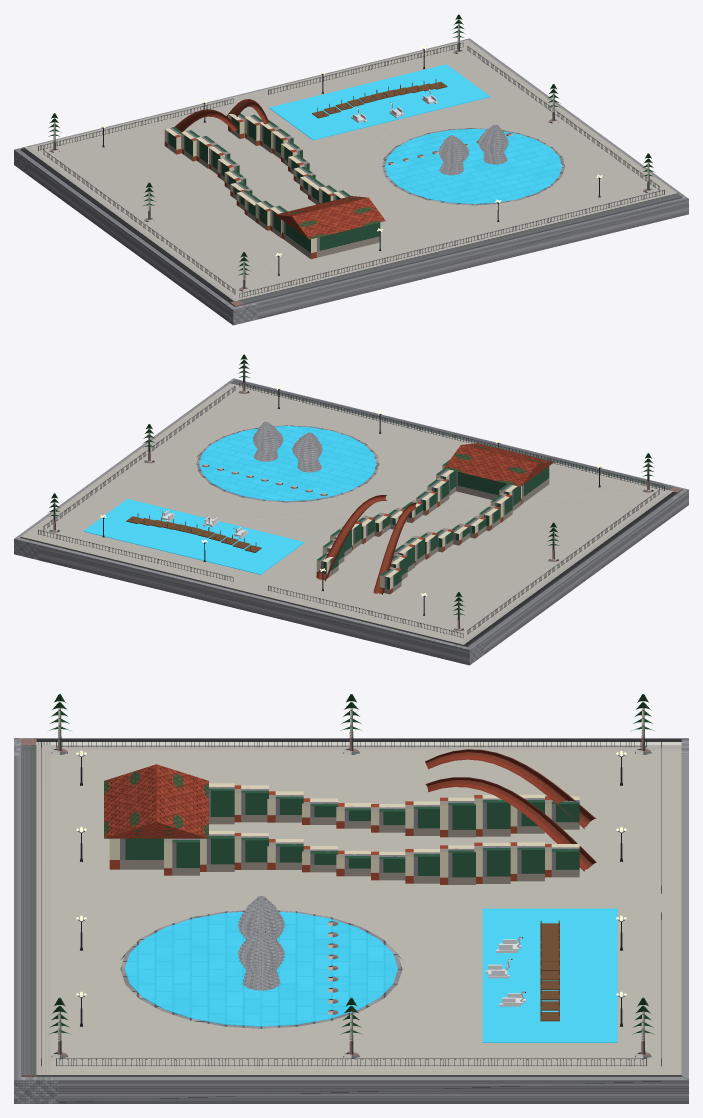
Rendered from ultra_lm_32_duong_ham_dieu_khac.glb.
3 views of the same model, one above another, from view 1: azimuth 30°, elevation 25°; view 2: azimuth 150°, elevation 25°; view 3: azimuth 270°, elevation 25° (orthographic). The views are drawn at different scales.
Visible parts, largest first — view 1: ClayTunnel_GraniteSteps_Curb_And_WormBrick, HoVoCuc_KLang_HBiang_Layered_Heads_And_Copernicus_Skirt, HoVoCuc_InfinityPool_And_TuyenLam_Water_Blend085, ClayTunnel_Unfired_RedBasalt_Sculptural_Walls, ClayTunnel_Balustrades_And_5Globe_Streetlamps, ClayTunnel_TwinDragons_Gate_And_VietnamMap_House, TuyenLam_Lakeside_TimberBridge_And_Pier, TuyenLam_PinePeninsula_Foliage; view 2: ClayTunnel_GraniteSteps_Curb_And_WormBrick, HoVoCuc_KLang_HBiang_Layered_Heads_And_Copernicus_Skirt, HoVoCuc_InfinityPool_And_TuyenLam_Water_Blend085, ClayTunnel_Unfired_RedBasalt_Sculptural_Walls, ClayTunnel_Balustrades_And_5Globe_Streetlamps, ClayTunnel_TwinDragons_Gate_And_VietnamMap_House, TuyenLam_Lakeside_TimberBridge_And_Pier, TuyenLam_PinePeninsula_Foliage; view 3: ClayTunnel_GraniteSteps_Curb_And_WormBrick, HoVoCuc_InfinityPool_And_TuyenLam_Water_Blend085, HoVoCuc_KLang_HBiang_Layered_Heads_And_Copernicus_Skirt, ClayTunnel_Unfired_RedBasalt_Sculptural_Walls, ClayTunnel_TwinDragons_Gate_And_VietnamMap_House, ClayTunnel_Balustrades_And_5Globe_Streetlamps, TuyenLam_Lakeside_TimberBridge_And_Pier, TuyenLam_PinePeninsula_Foliage, TuyenLam_3DSwanPedalBoats_Fleet.
Boxes of the visible parts, x1=… form: ClayTunnel_GraniteSteps_Curb_And_WormBrick: x1=20, y1=23, x2=682, y2=306; HoVoCuc_KLang_HBiang_Layered_Heads_And_Copernicus_Skirt: x1=14, y1=38, x2=688, y2=325; HoVoCuc_InfinityPool_And_TuyenLam_Water_Blend085: x1=269, y1=64, x2=562, y2=203; ClayTunnel_Unfired_RedBasalt_Sculptural_Walls: x1=164, y1=113, x2=380, y2=259; ClayTunnel_Balustrades_And_5Globe_Streetlamps: x1=38, y1=42, x2=664, y2=297; ClayTunnel_TwinDragons_Gate_And_VietnamMap_House: x1=173, y1=88, x2=429, y2=239; TuyenLam_Lakeside_TimberBridge_And_Pier: x1=312, y1=79, x2=447, y2=118; TuyenLam_PinePeninsula_Foliage: x1=48, y1=14, x2=654, y2=275; ClayTunnel_GraniteSteps_Curb_And_WormBrick: x1=20, y1=363, x2=682, y2=646; HoVoCuc_KLang_HBiang_Layered_Heads_And_Copernicus_Skirt: x1=14, y1=378, x2=688, y2=665; HoVoCuc_InfinityPool_And_TuyenLam_Water_Blend085: x1=83, y1=426, x2=376, y2=574; ClayTunnel_Unfired_RedBasalt_Sculptural_Walls: x1=316, y1=460, x2=549, y2=594; ClayTunnel_Balustrades_And_5Globe_Streetlamps: x1=38, y1=382, x2=664, y2=637; ClayTunnel_TwinDragons_Gate_And_VietnamMap_House: x1=160, y1=443, x2=553, y2=594; TuyenLam_Lakeside_TimberBridge_And_Pier: x1=126, y1=513, x2=261, y2=552; TuyenLam_PinePeninsula_Foliage: x1=48, y1=354, x2=654, y2=615; ClayTunnel_GraniteSteps_Curb_And_WormBrick: x1=21, y1=707, x2=681, y2=1076; HoVoCuc_InfinityPool_And_TuyenLam_Water_Blend085: x1=125, y1=908, x2=617, y2=1042; HoVoCuc_KLang_HBiang_Layered_Heads_And_Copernicus_Skirt: x1=14, y1=738, x2=688, y2=1103; ClayTunnel_Unfired_RedBasalt_Sculptural_Walls: x1=109, y1=783, x2=579, y2=884; ClayTunnel_TwinDragons_Gate_And_VietnamMap_House: x1=104, y1=749, x2=596, y2=992; ClayTunnel_Balustrades_And_5Globe_Streetlamps: x1=41, y1=739, x2=661, y2=1066; TuyenLam_Lakeside_TimberBridge_And_Pier: x1=540, y1=920, x2=559, y2=1021; TuyenLam_PinePeninsula_Foliage: x1=49, y1=694, x2=653, y2=1034; TuyenLam_3DSwanPedalBoats_Fleet: x1=485, y1=936, x2=525, y2=1006.
Bounding box in the file's own units: 108 × 16.45 × 90.
10 materials, 4 textured.
